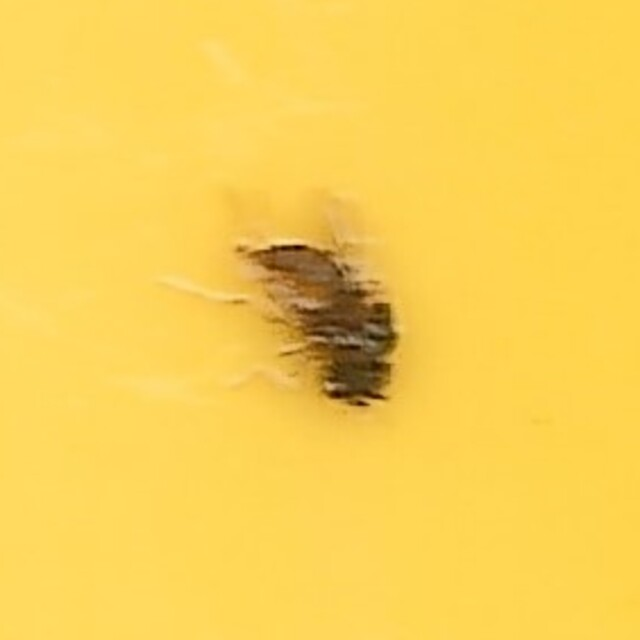Brachycera: (227, 223, 413, 417)
